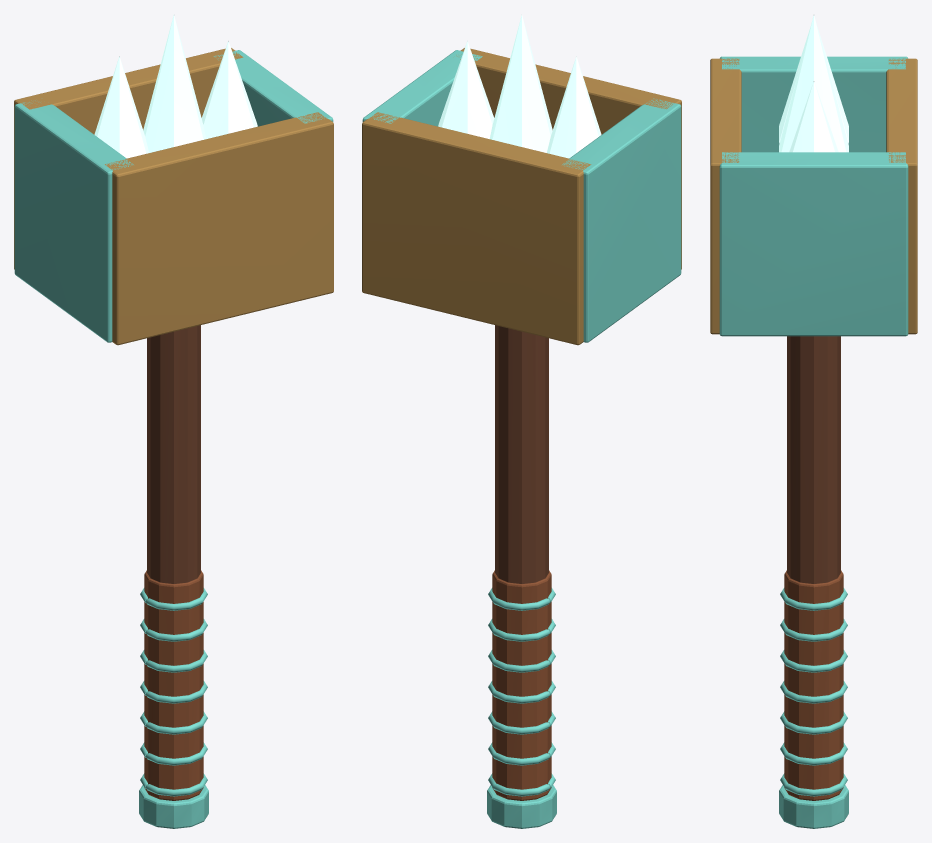
Rendered from item_048.glb.
The picture shows the model from 3 angles, left to right: view 1: azimuth 30°, elevation 25°; view 2: azimuth 150°, elevation 25°; view 3: azimuth 270°, elevation 25°; orthographic projection.
Visible parts, largest first — view 1: Item_048_glass_mortar; view 2: Item_048_glass_mortar; view 3: Item_048_glass_mortar.
Part boxes in pixels (<box>): Item_048_glass_mortar: <box>14,15,333,828</box>; Item_048_glass_mortar: <box>362,15,681,828</box>; Item_048_glass_mortar: <box>710,15,917,828</box>.
Bounding box in the file's own units: 0.415 × 1.4 × 0.33.
